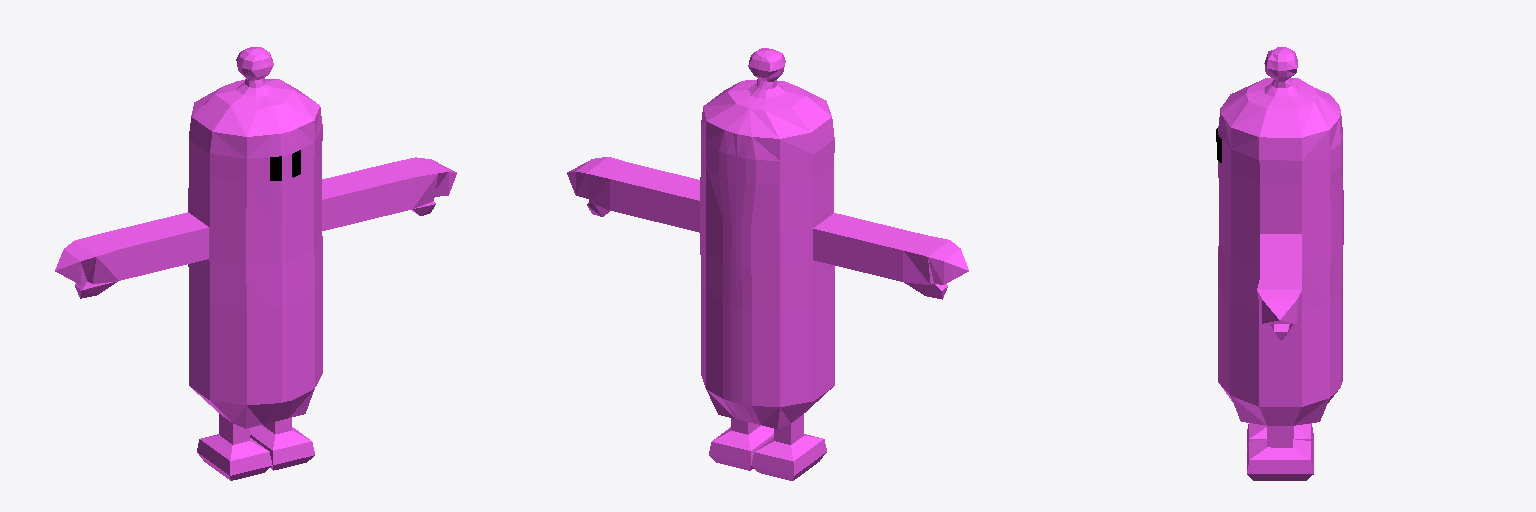
The model's file is Personagem_1_semturbo.obj.
The picture shows the model from 3 angles: view 1: azimuth 30°, elevation 25°; view 2: azimuth 150°, elevation 25°; view 3: azimuth 270°, elevation 25°; orthographic projection.
Visible parts, largest first — view 1: Tronco; view 2: Tronco; view 3: Tronco.
Part boxes in pixels (left/top/right/bottom): Tronco: left=55, top=47, right=456, bottom=480; Tronco: left=567, top=48, right=968, bottom=480; Tronco: left=1216, top=47, right=1343, bottom=480.
Size of the model in its own units: 5.94 by 5.82 by 1.63.